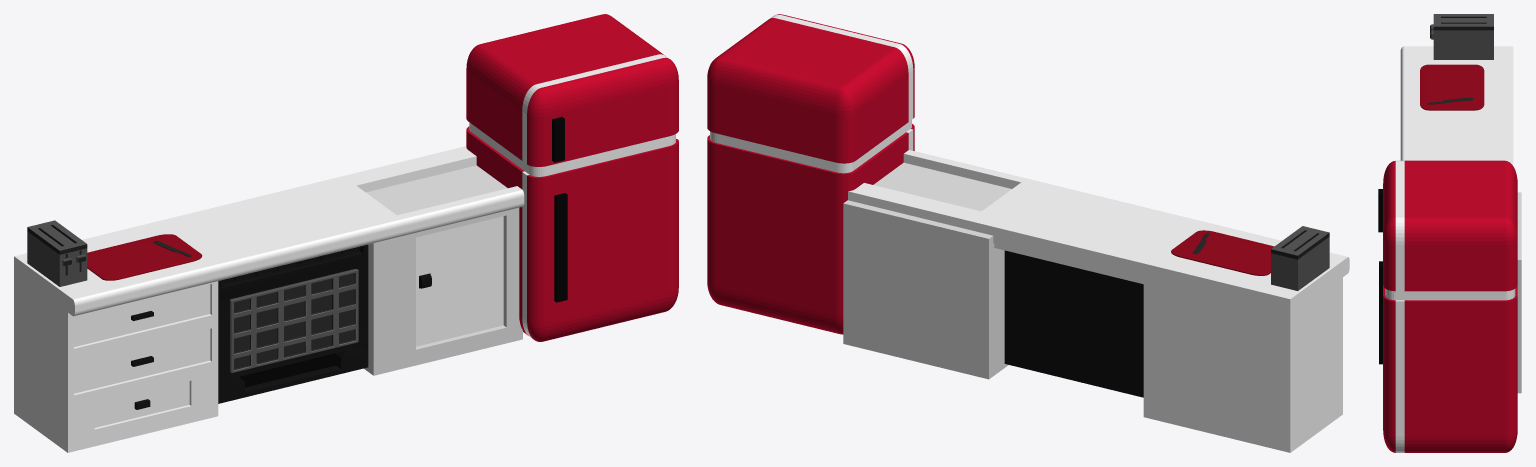
Rendered from kitchen_interior.glb.
3 renders of one model, left to right at view 1: azimuth 30°, elevation 25°; view 2: azimuth 150°, elevation 25°; view 3: azimuth 270°, elevation 25°, orthographic. The views are drawn at different scales.
Visible parts, largest first — view 1: Cube.014_17, Cube.005_5, Cube.015_18, Cube.006_6, Cube.010_11, Cube.009_10; view 2: Cube.005_5, Cube.014_17, Cube.015_18, Cube.006_6, Cube.009_10, Cube.010_11; view 3: Cube.014_17, Cube.005_5, Cube.010_11, Cube.009_10, Cube.015_18.
Boxes of the visible parts, left/top/right/bottom form: Cube.014_17: left=466, top=14, right=678, bottom=341; Cube.005_5: left=14, top=146, right=524, bottom=452; Cube.015_18: left=364, top=165, right=522, bottom=375; Cube.006_6: left=218, top=244, right=368, bottom=403; Cube.010_11: left=87, top=234, right=202, bottom=280; Cube.009_10: left=27, top=220, right=87, bottom=286; Cube.005_5: left=848, top=150, right=1349, bottom=452; Cube.014_17: left=707, top=14, right=914, bottom=334; Cube.015_18: left=843, top=162, right=1011, bottom=379; Cube.006_6: left=1004, top=250, right=1143, bottom=397; Cube.009_10: left=1271, top=226, right=1329, bottom=290; Cube.010_11: left=1171, top=230, right=1274, bottom=275; Cube.014_17: left=1378, top=160, right=1517, bottom=452; Cube.005_5: left=1400, top=46, right=1513, bottom=165; Cube.010_11: left=1420, top=64, right=1484, bottom=110; Cube.009_10: left=1430, top=14, right=1493, bottom=59; Cube.015_18: left=1517, top=192, right=1521, bottom=393.
Size of the model in its own units: 3.68 by 1.52 by 0.8223.
